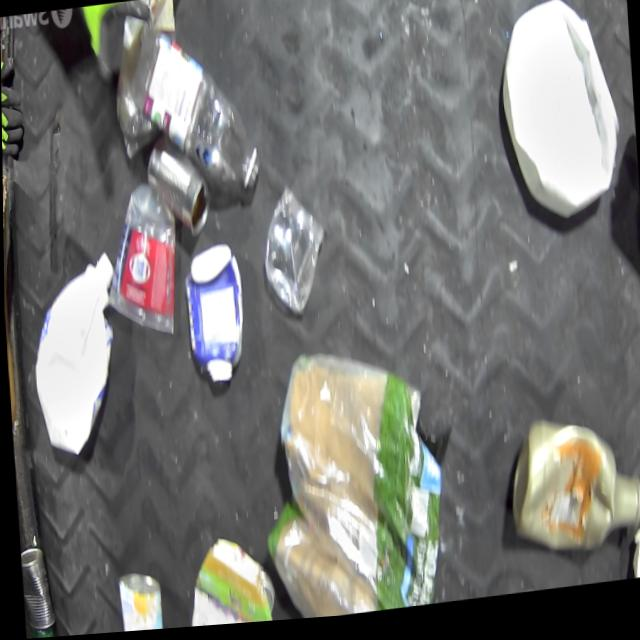can: (141, 130, 211, 245), (112, 565, 162, 634), (18, 543, 54, 633)
milk_jug: (493, 0, 625, 236), (23, 249, 125, 461)
non_white_jug: (502, 414, 640, 571)
plastic_bottle: (126, 13, 261, 209)
